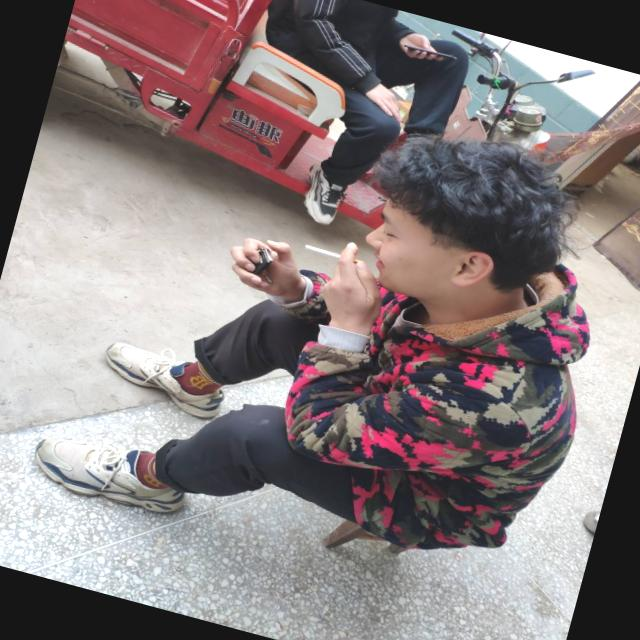smoke: (301, 231, 386, 281)
